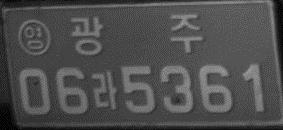0: (18, 67, 51, 117)
1: (237, 62, 271, 112)
3: (159, 64, 194, 114)
5: (120, 65, 155, 113)
6: (198, 63, 233, 114), (55, 66, 89, 115)
광주_D: (69, 13, 204, 56)
라: (90, 70, 118, 110)
영: (17, 18, 51, 56)
